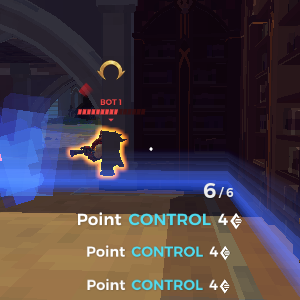model: (81, 124, 124, 182)
